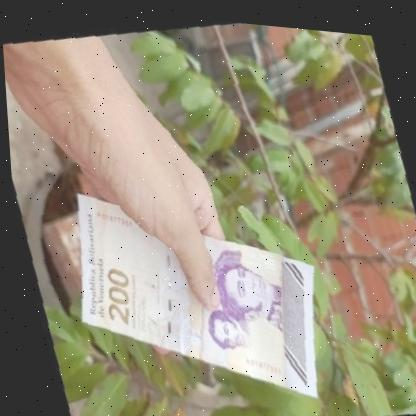two_hundred-front-vef: (38, 139, 349, 416)
